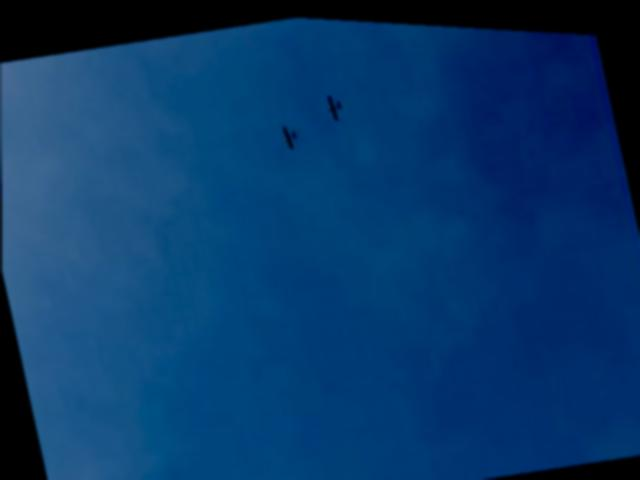uav: (278, 117, 302, 151), (324, 87, 345, 119)
